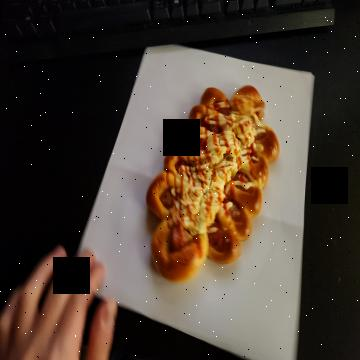pizza_bread: (148, 85, 279, 282)
